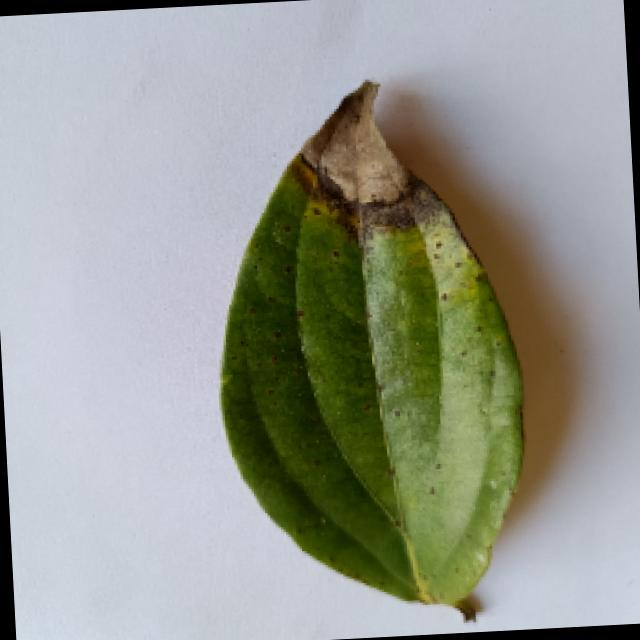footrot: (202, 70, 543, 633)
